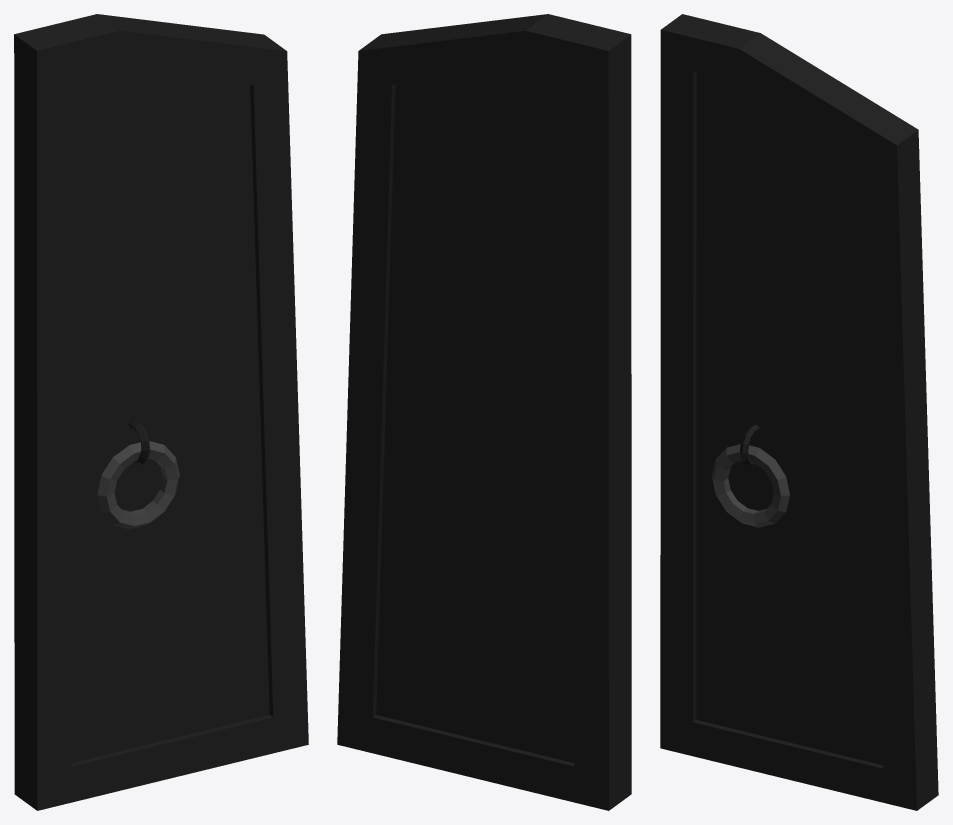
Rendered from winter-castle-door-r.glb.
The picture shows the model from 3 angles, left to right: view 1: azimuth 30°, elevation 25°; view 2: azimuth 150°, elevation 25°; view 3: azimuth 330°, elevation 25°; orthographic projection. The views are drawn at different scales.
Parts seen in each view (by area): view 1: WinterCastleDoor_R; view 2: WinterCastleDoor_R; view 3: WinterCastleDoor_R.
Boxes of the visible parts, x1,y1,x2,y2 form: WinterCastleDoor_R: [14, 14, 308, 810]; WinterCastleDoor_R: [337, 14, 631, 810]; WinterCastleDoor_R: [660, 14, 938, 810].
Bounding box in the file's own units: 130 × 347 × 29.24.
Materials: 1 (1 with a texture image).
